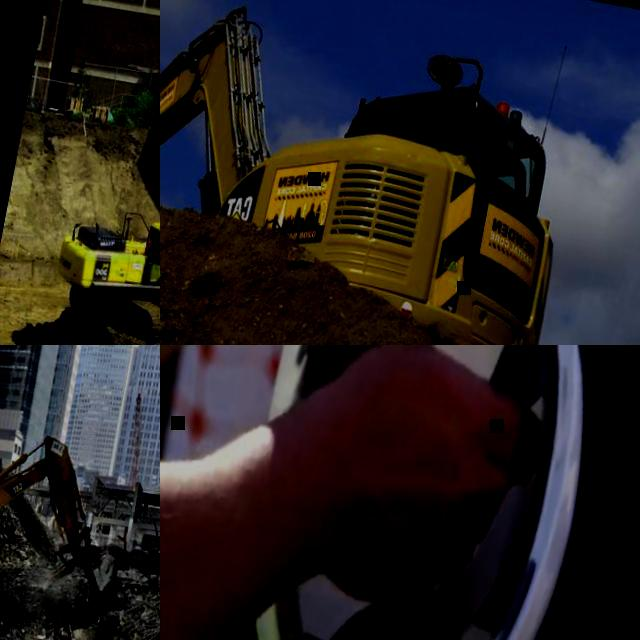helmet: (219, 345, 640, 640)
machinery: (160, 0, 591, 345), (0, 402, 138, 640), (43, 105, 160, 345)
person: (160, 345, 607, 640)
